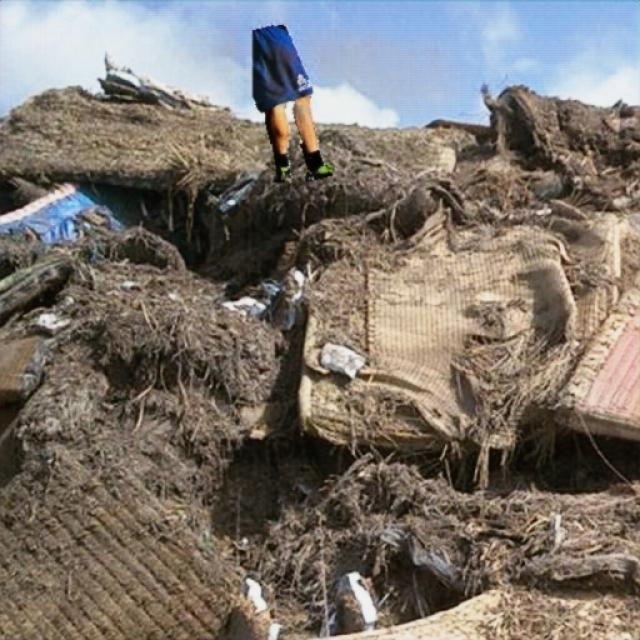Person in Rubble: (252, 23, 332, 182)
